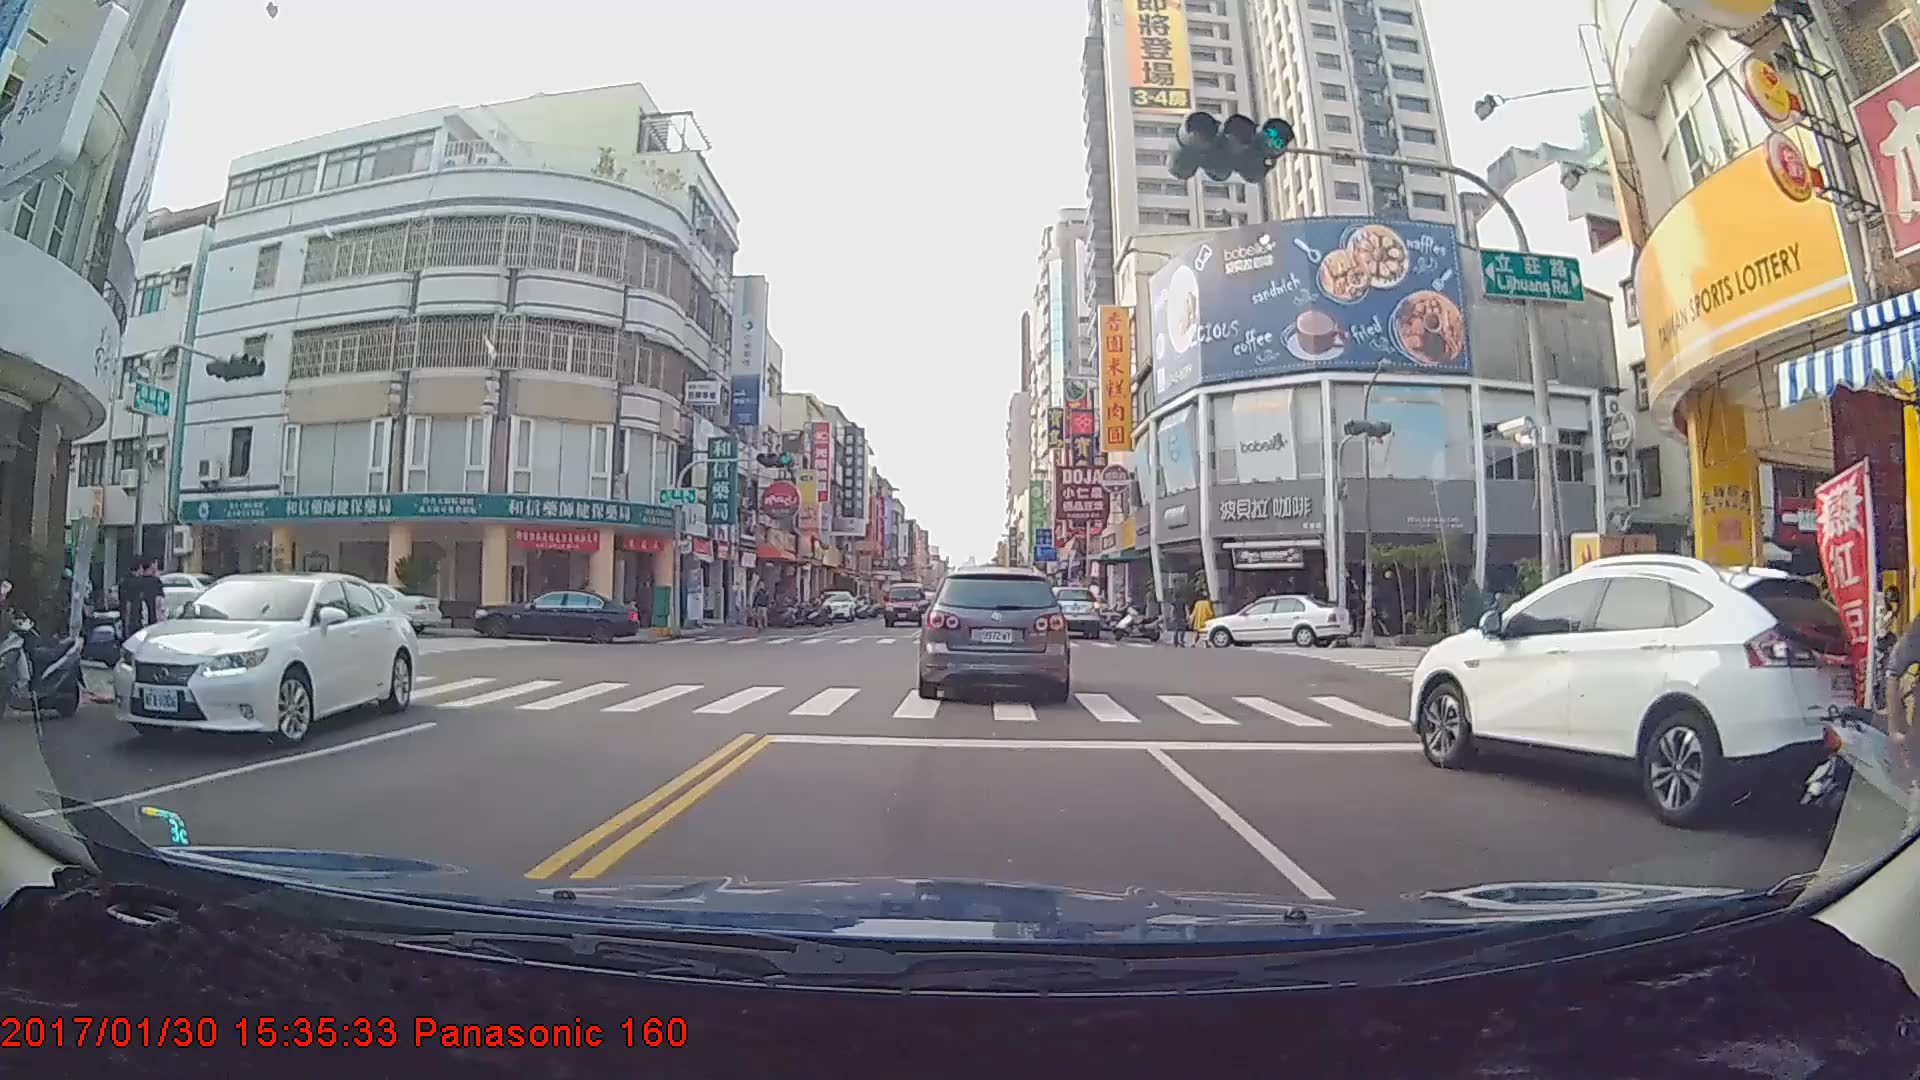pedestrian: (130, 551, 175, 709), (1192, 589, 1215, 647), (1171, 589, 1191, 651), (751, 581, 771, 635)
vehicle: (1408, 553, 1874, 831), (103, 570, 411, 750), (920, 565, 1069, 703), (470, 587, 639, 642), (1199, 590, 1348, 649), (297, 578, 443, 636), (1036, 583, 1100, 639), (882, 580, 927, 628), (814, 587, 857, 623)
